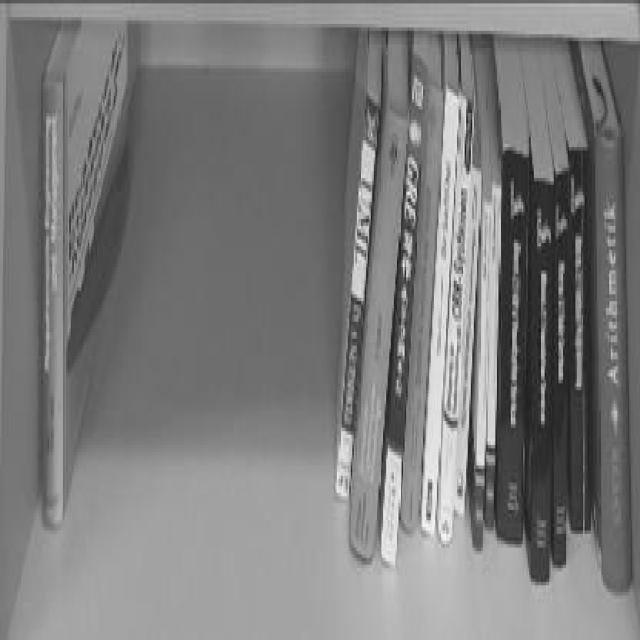book: (42, 10, 140, 534), (583, 46, 634, 592), (333, 116, 394, 553), (572, 101, 591, 589), (528, 168, 550, 582)
